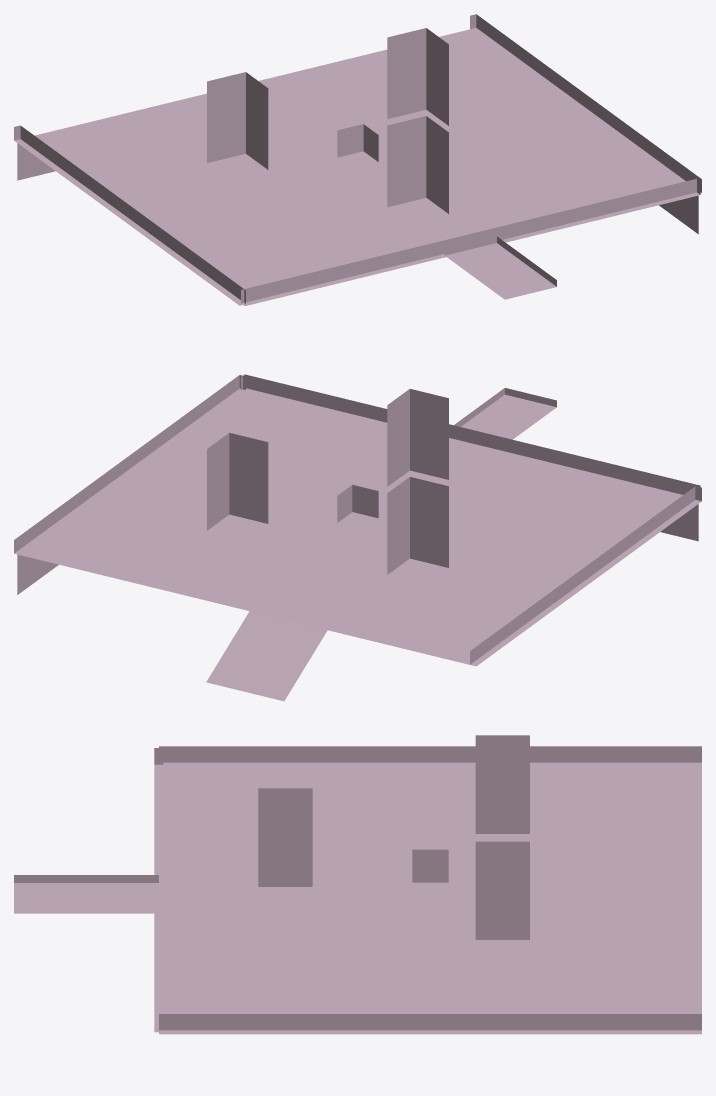
Rendered from loom_crossroads_greybox.gltf.
The picture shows the model from 3 angles, top to bottom: view 1: azimuth 30°, elevation 25°; view 2: azimuth 150°, elevation 25°; view 3: azimuth 270°, elevation 25°; orthographic projection. The views are drawn at different scales.
Size of the model in its own units: 35.5 by 12 by 38.
